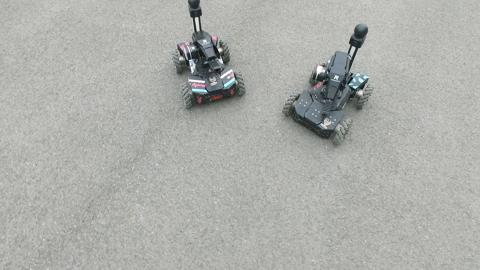chariot: (270, 17, 381, 152), (147, 1, 253, 111)
